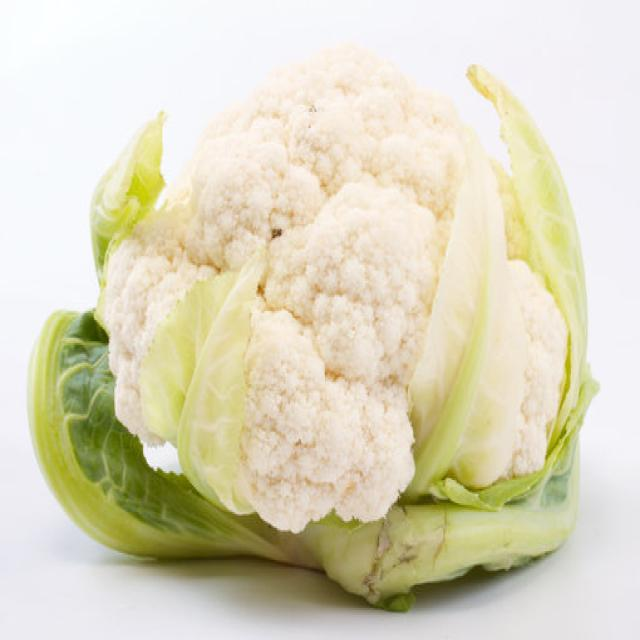Cauliflower: (60, 46, 593, 578)
